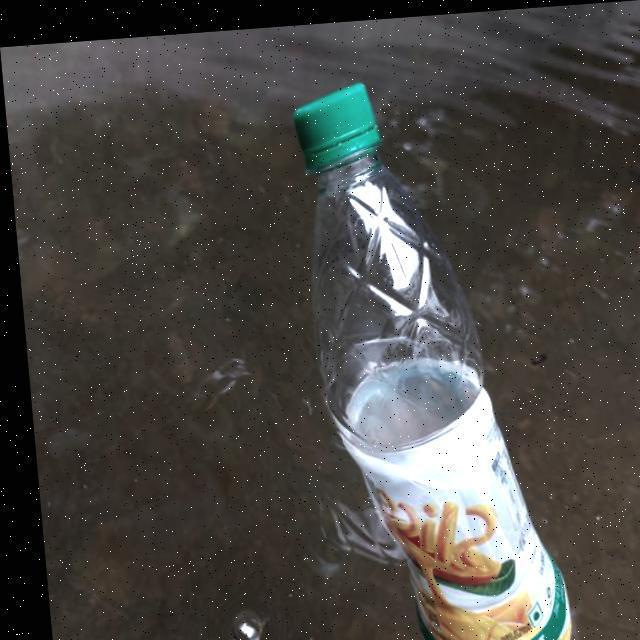Bottle: (281, 69, 590, 640)
